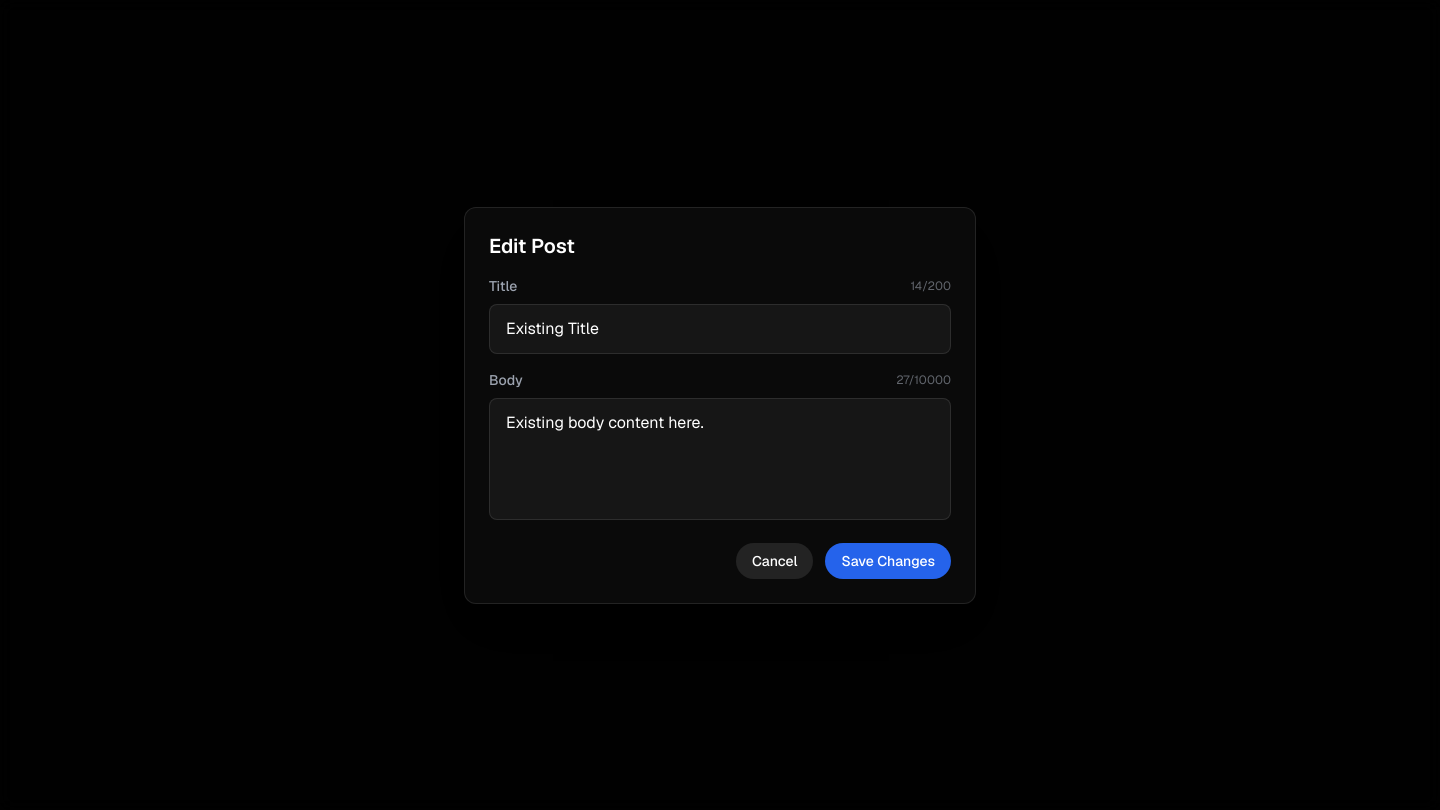
Test: PostFormModal Validation › Edit Mode › should validate on edit and show errors
Clear the field labelled "Title". click: (720, 328)
box: x1=489 y1=304 x2=951 y2=354
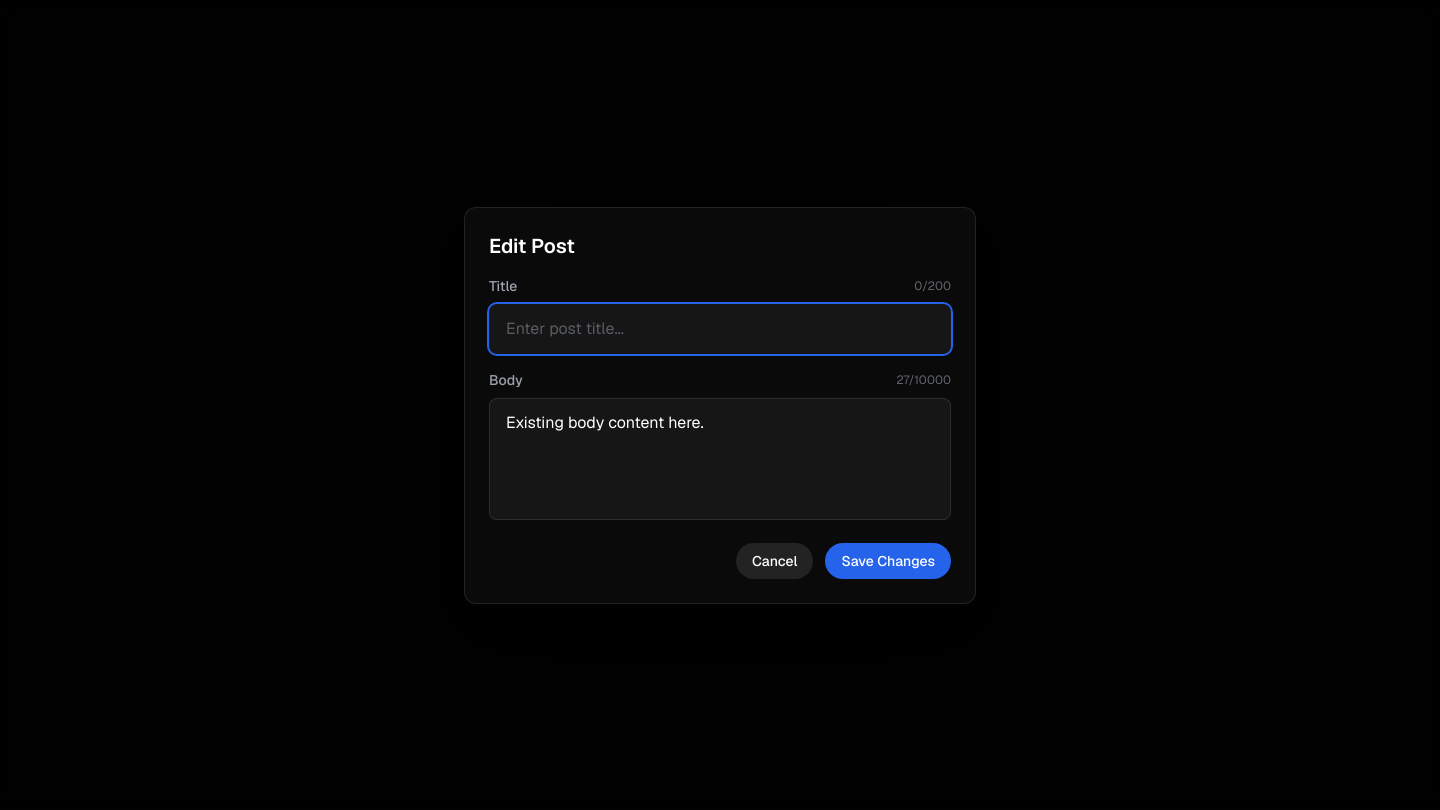
Press Tab
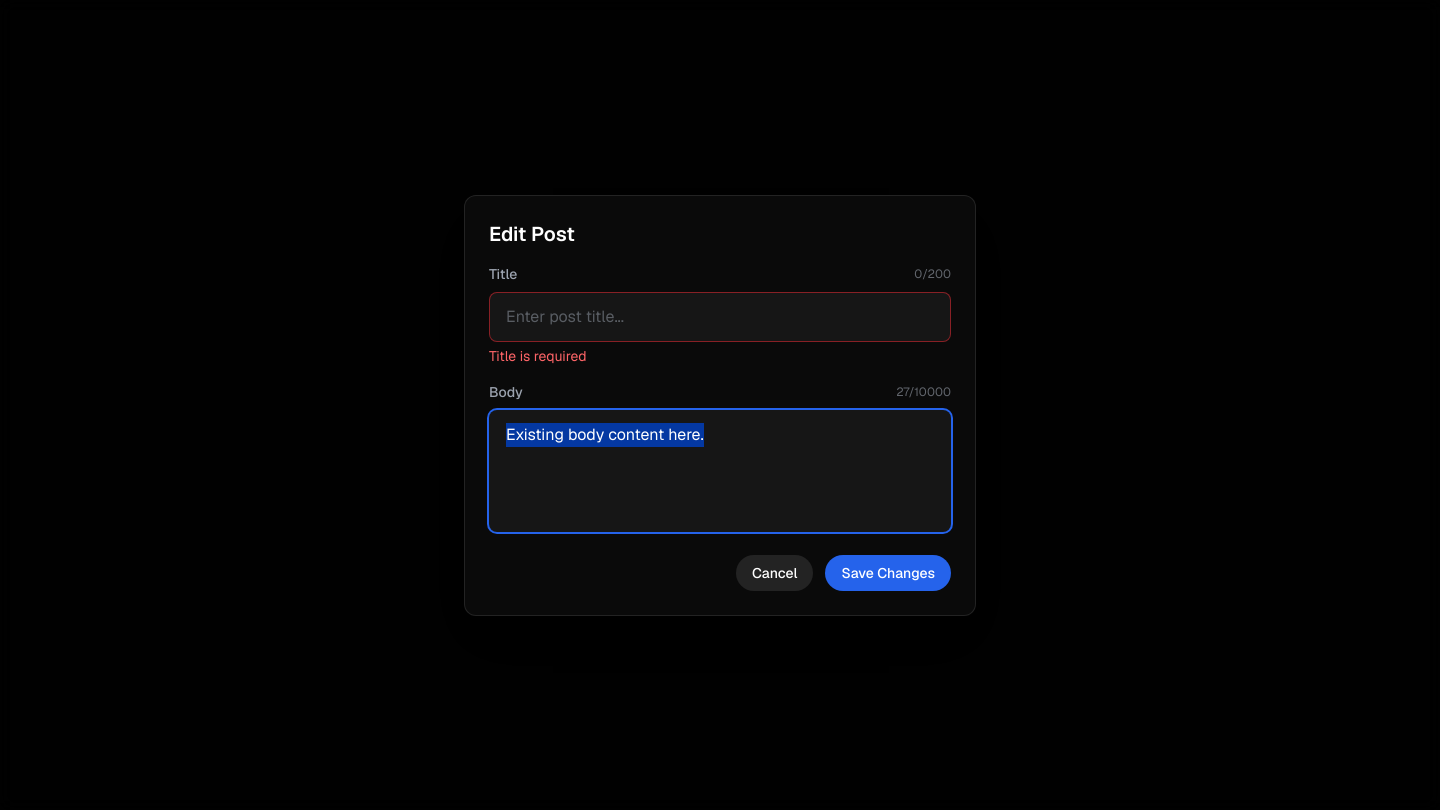
Result: the text "Title is required" is shown at x1=489 y1=346 x2=587 y2=364
